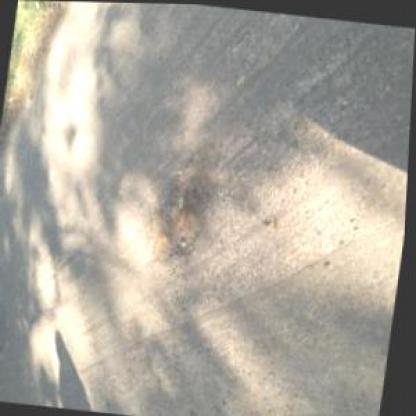pothole: (143, 130, 229, 268)
